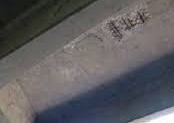Exposed reinforcement: (110, 20, 123, 37), (121, 16, 133, 31), (136, 9, 145, 25), (127, 18, 135, 28)
Spalling: (101, 2, 154, 48)
